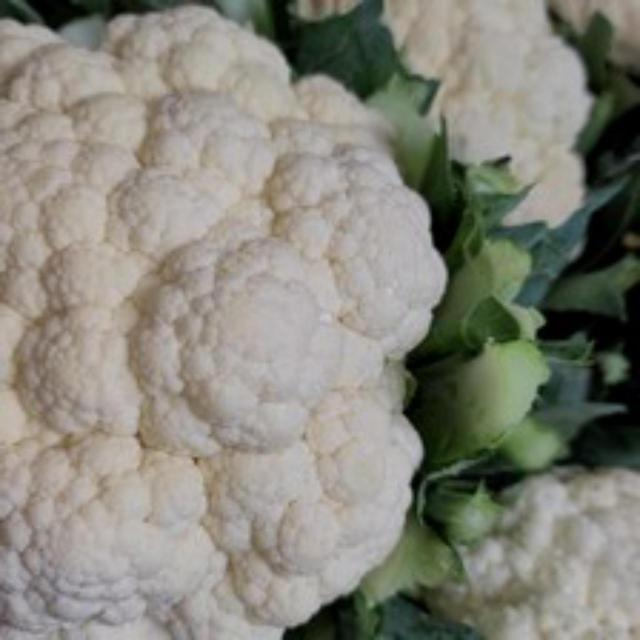cauliflower: (0, 0, 457, 637)
